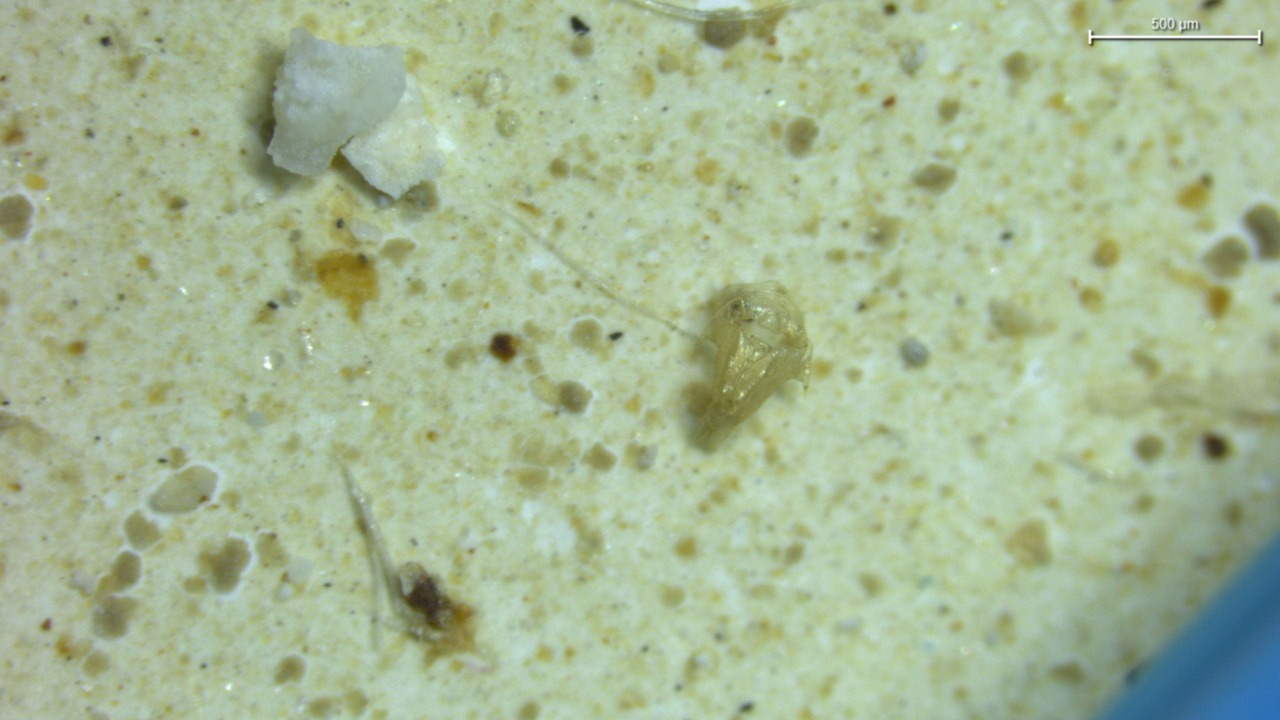microplastic_fragment: (267, 28, 406, 174), (707, 283, 812, 442), (340, 73, 453, 199)
